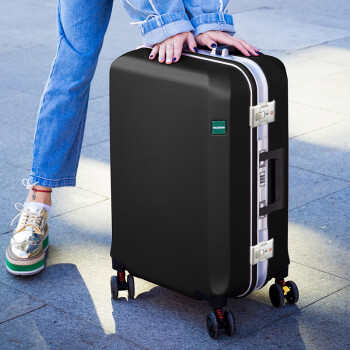box: (109, 47, 290, 300)
handle: (257, 148, 286, 217)
lock: (250, 100, 275, 127), (250, 238, 273, 264), (259, 170, 266, 187)
wheel: (206, 311, 236, 339), (269, 281, 299, 308), (110, 275, 135, 301)
